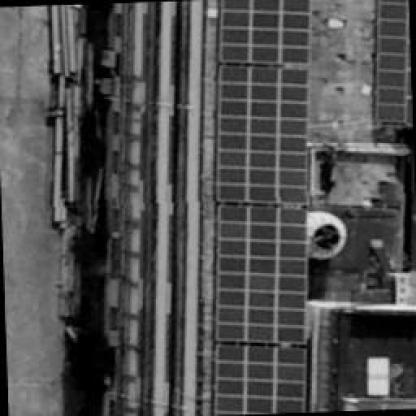solar-pv-panel: (215, 67, 307, 205), (214, 206, 306, 344), (213, 345, 305, 416), (217, 0, 309, 64), (375, 0, 413, 126)
